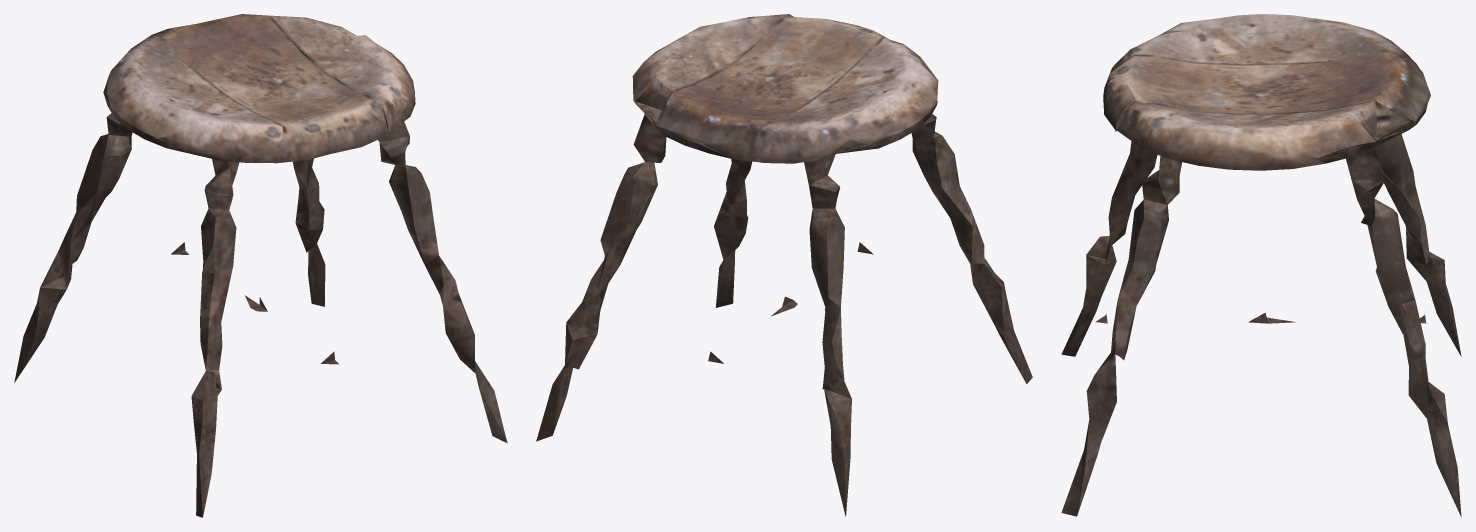
File: stool_wood.glb
3 views of the same model, side by side, from view 1: azimuth 30°, elevation 25°; view 2: azimuth 150°, elevation 25°; view 3: azimuth 270°, elevation 25° (orthographic). The views are drawn at different scales.
Parts seen in each view (by area): view 1: mesh; view 2: mesh; view 3: mesh.
Boxes of the visible parts, x1,y1,x2,y2 form: mesh: [14, 14, 507, 517]; mesh: [536, 14, 1032, 516]; mesh: [1061, 14, 1461, 517].
Bounding box in the file's own units: 0.4123 × 0.4374 × 0.4316.
1 material, 1 textured.
